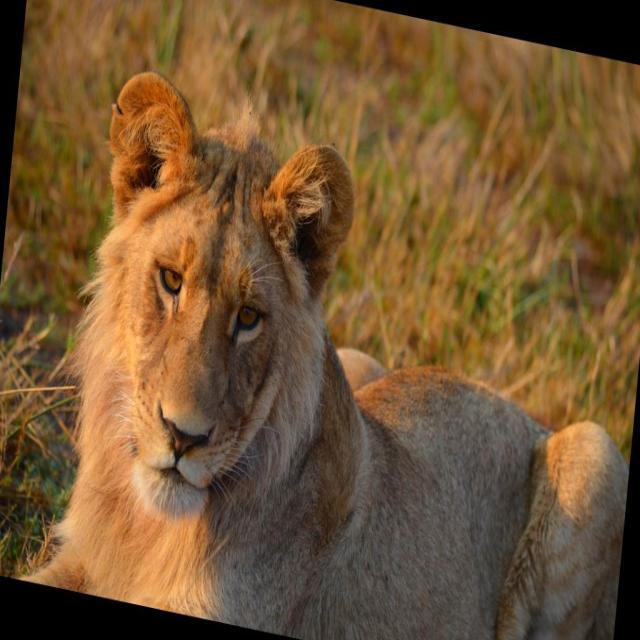Lion: (21, 53, 640, 639)
